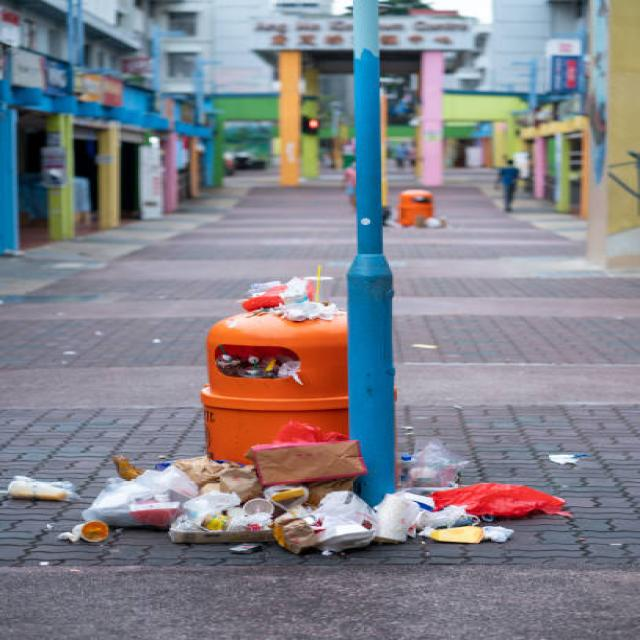bin_full: (215, 268, 346, 470), (386, 182, 452, 236)
normal_waste: (104, 442, 233, 537), (224, 473, 386, 542), (225, 268, 380, 324), (436, 484, 590, 526)
